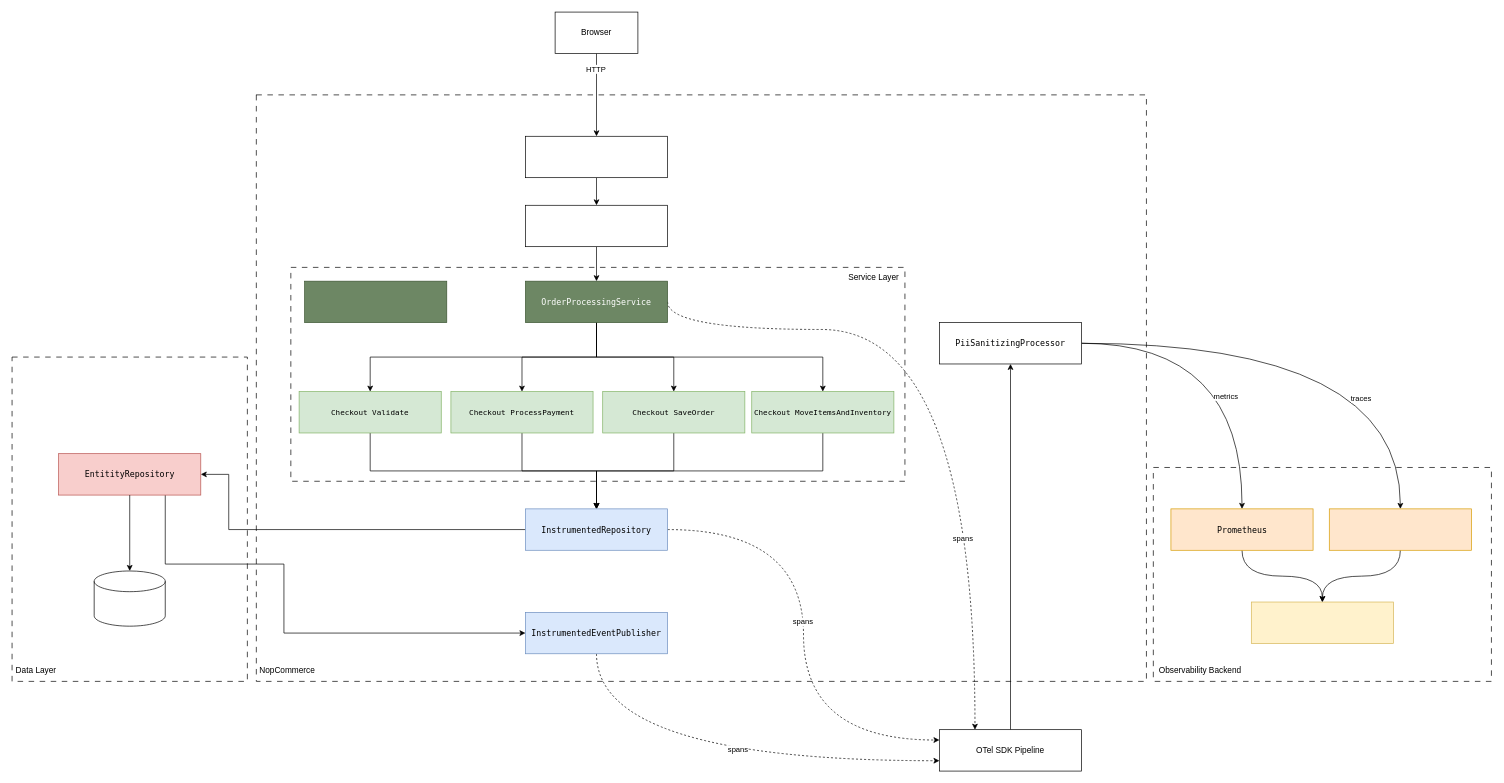
This 1504x783 diagram has some shape labels left out. Here are the shapes that lost their labels. From the top down, the centre of each, then its label:
At (596,157): "ASP . NET Core Middleware Auto-Instrumentation".
At (596,226): "TraceFiltering".
At (375,301): "Event Publisher".
At (1400,529): "Jagger".
At (129,598): "SQL Server".
At (1322,622): "Grafana Dashboard".
